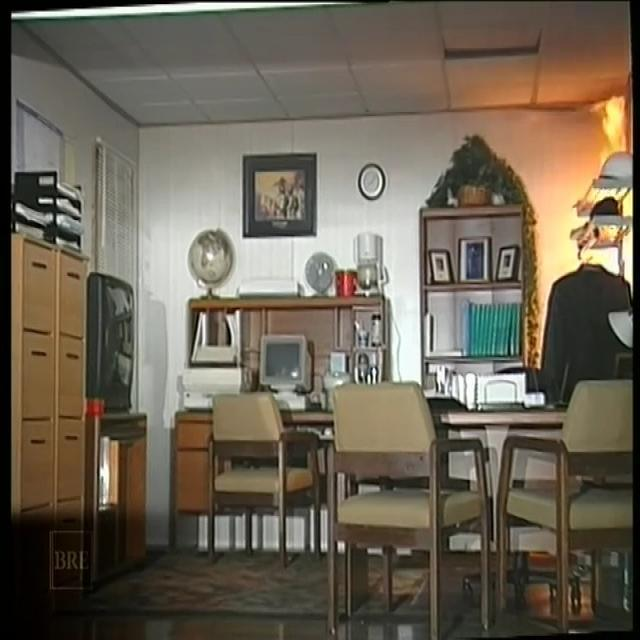Fire: (473, 90, 636, 286)
